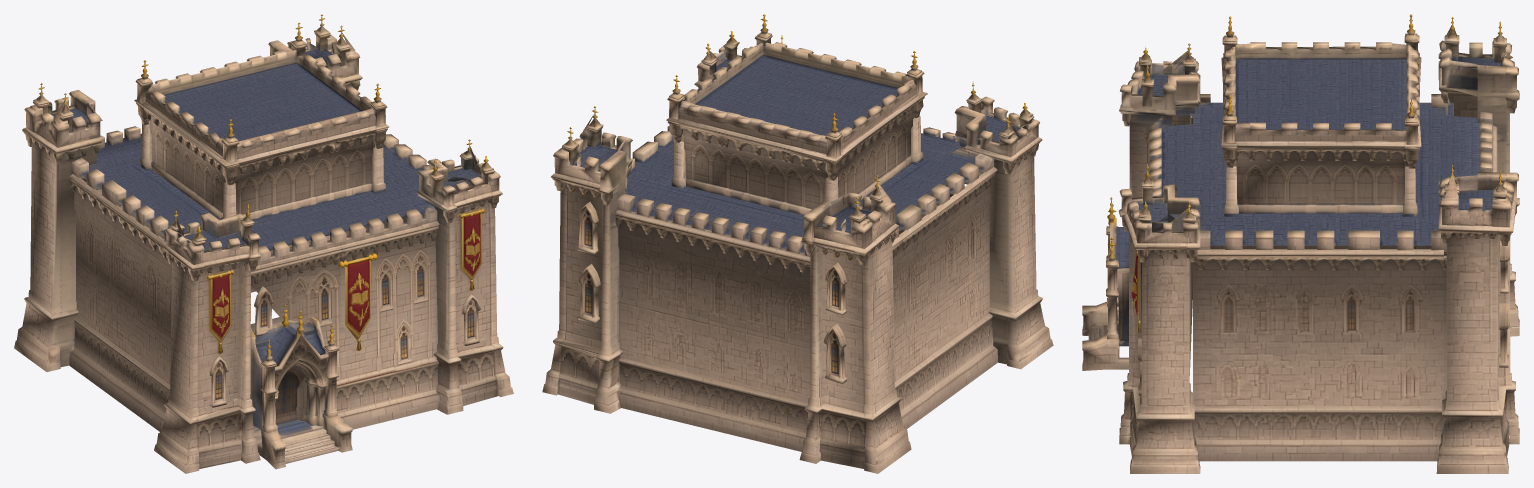
The model's file is Furn_Dorm_Knight2.fbx.
3 views of the same model, side by side, from view 1: azimuth 30°, elevation 25°; view 2: azimuth 150°, elevation 25°; view 3: azimuth 270°, elevation 25° (orthographic). The views are drawn at different scales.
Parts seen in each view (by area): view 1: Furn_Dorm_Knight2; view 2: Furn_Dorm_Knight2; view 3: Furn_Dorm_Knight2.
Boxes of the visible parts, box(x1,y1,x2,y2) form: Furn_Dorm_Knight2: box(14, 14, 513, 473); Furn_Dorm_Knight2: box(542, 14, 1053, 473); Furn_Dorm_Knight2: box(1082, 14, 1519, 473).
Size of the model in its own units: 18.35 by 16 by 19.21.
1 material, 1 textured.
